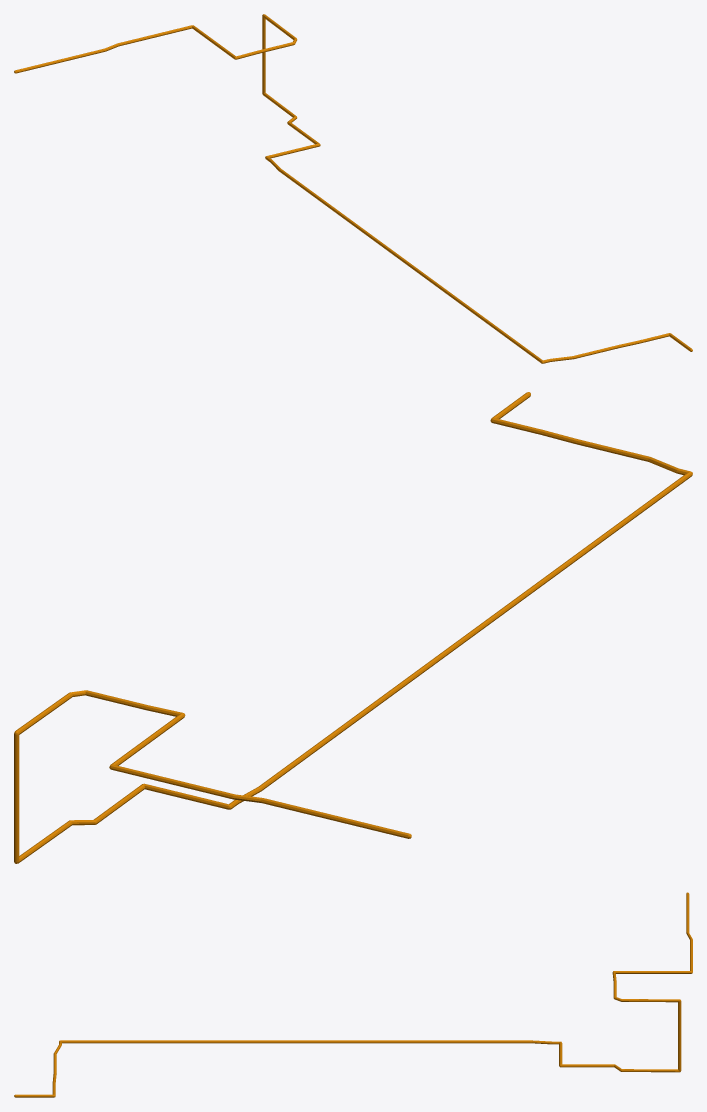
3 views of the same model, one above another, from view 1: azimuth 30°, elevation 25°; view 2: azimuth 150°, elevation 25°; view 3: azimuth 270°, elevation 25° (orthographic). The views are drawn at different scales.
Bounding box in the file's own units: 2041 × 520 × 4391.
